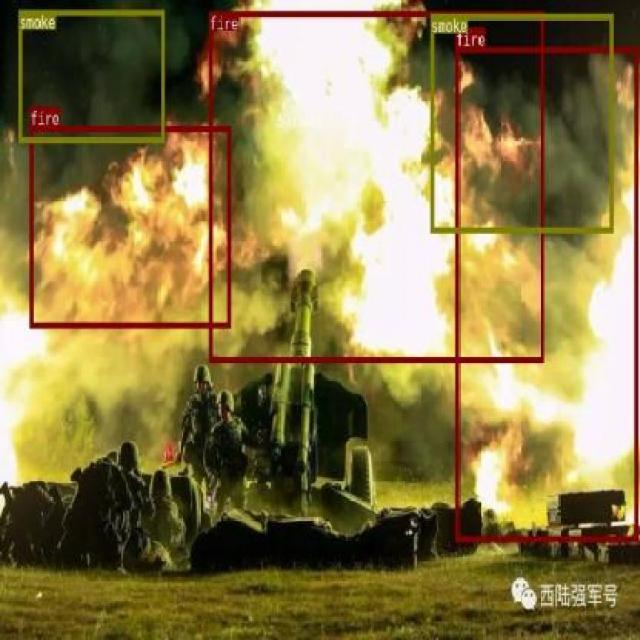Fire: (208, 10, 542, 362), (454, 46, 638, 540), (29, 125, 231, 326)
Smoke: (430, 13, 612, 232), (18, 9, 164, 142)
